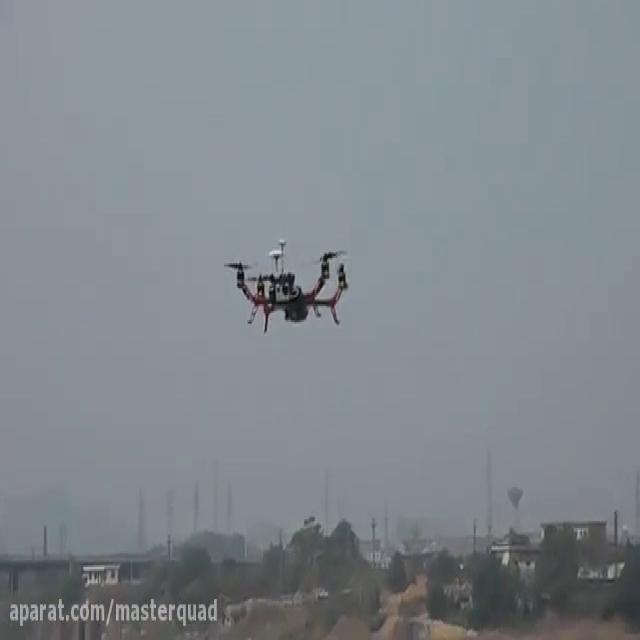drone: (217, 228, 353, 334)
